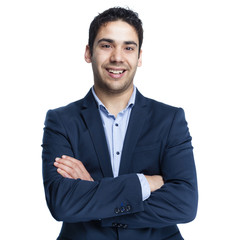young: (80, 13, 149, 91)
